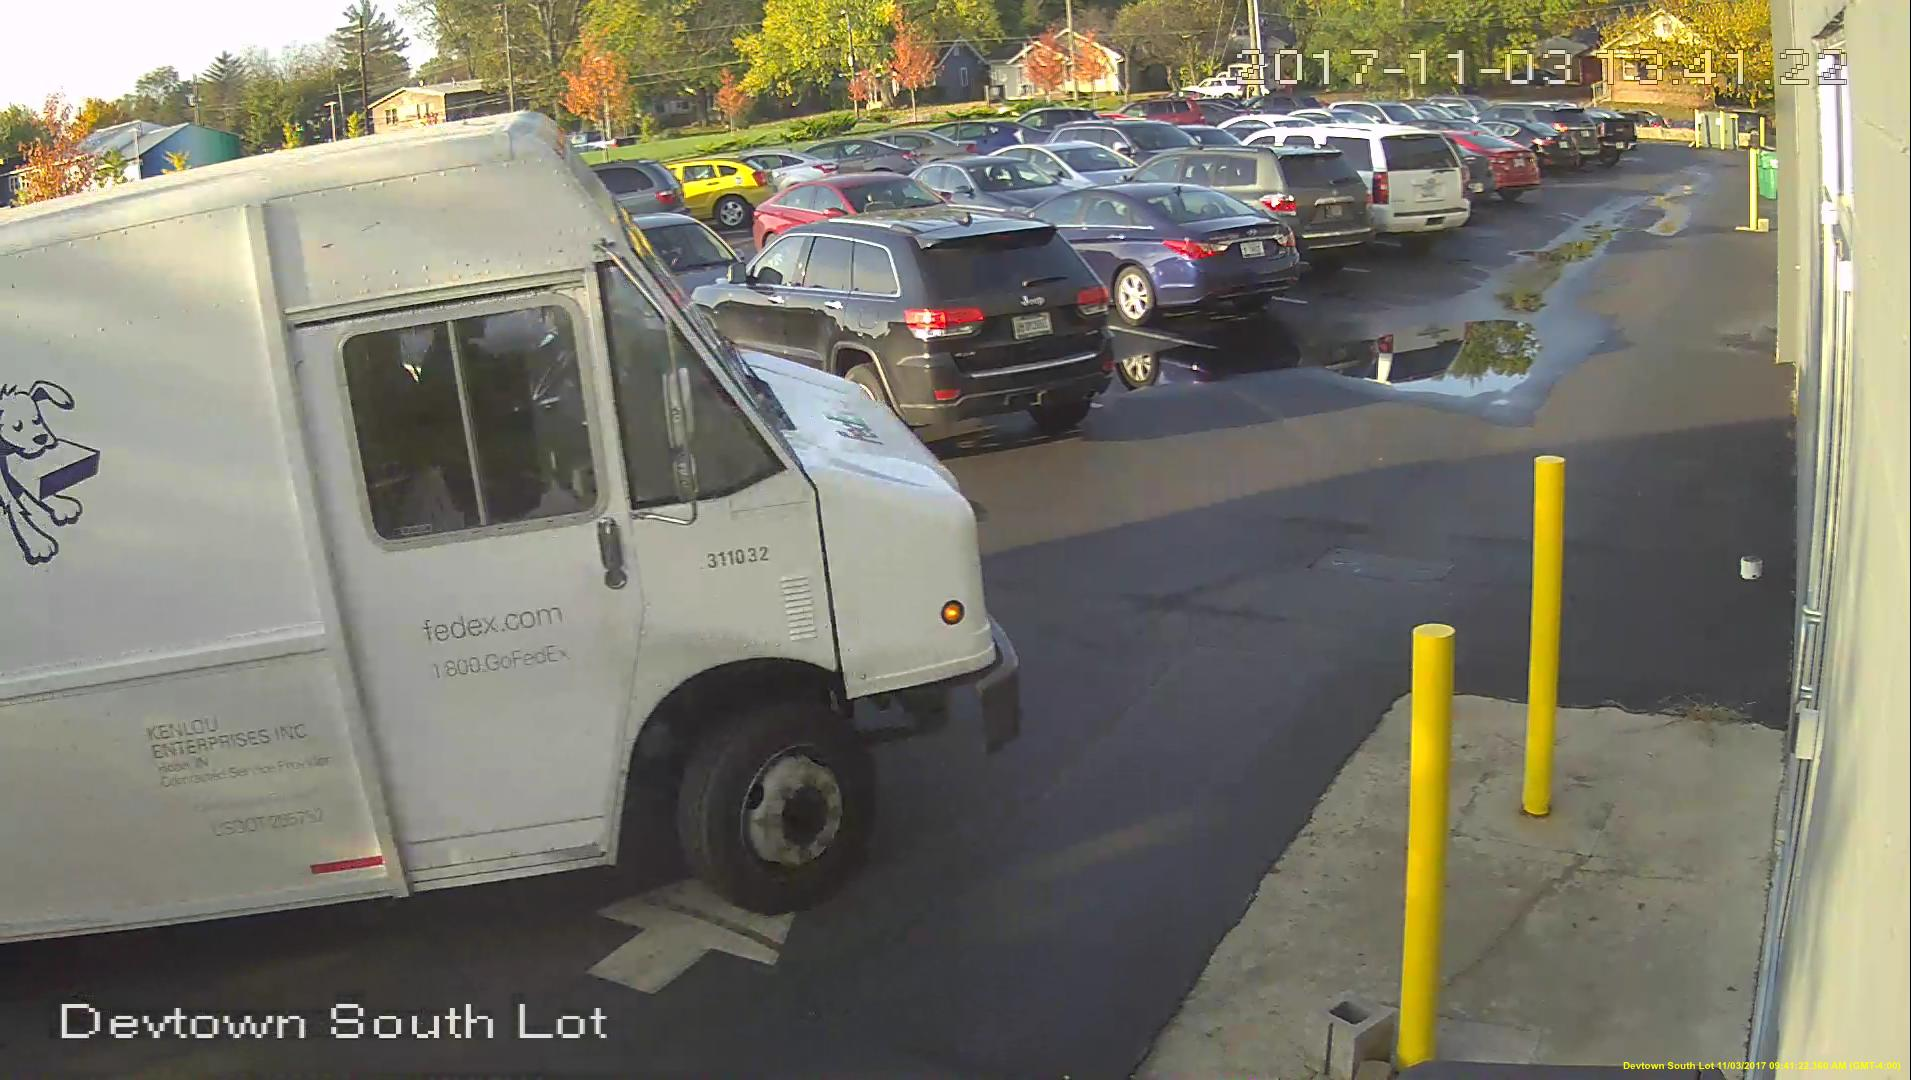fedex_truck: (1, 119, 1018, 950)
